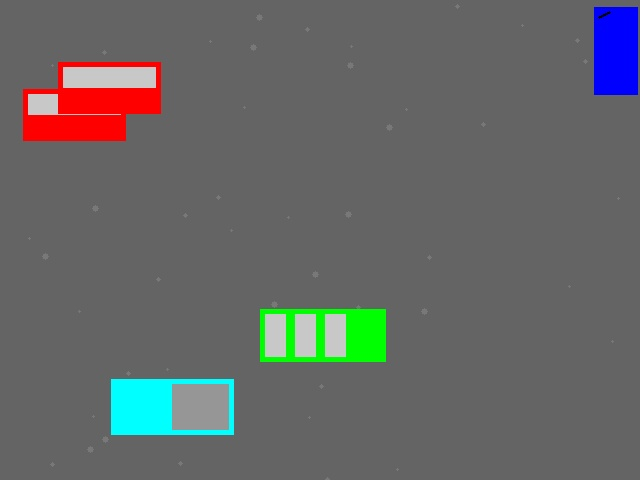bus: (260, 309, 385, 361)
car: (23, 89, 125, 140), (58, 62, 160, 113)
motorcycle: (594, 7, 637, 94)
truck: (111, 379, 233, 434)
